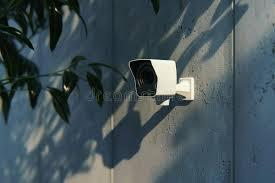Monitor: (119, 48, 205, 121)
